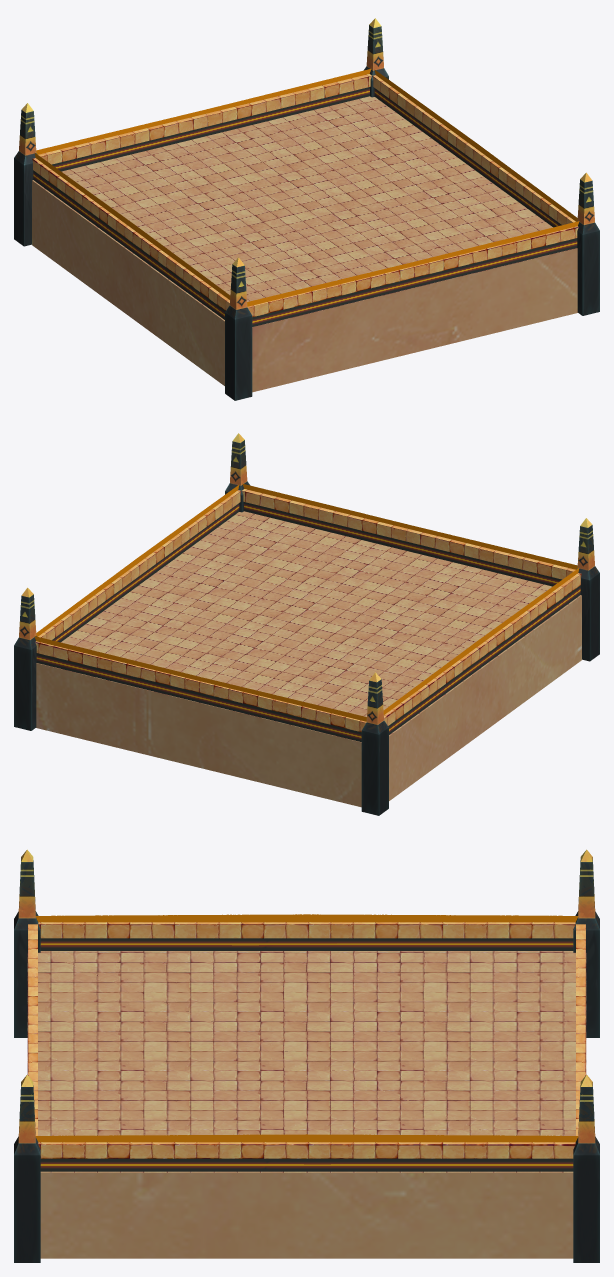
The model's file is Battle_Stage 12.fbx.
3 views of the same model, one above another, from view 1: azimuth 30°, elevation 25°; view 2: azimuth 150°, elevation 25°; view 3: azimuth 270°, elevation 25° (orthographic). The views are drawn at different scales.
Visible parts, largest first — view 1: CR_Platform_Cube.033, CR_Platform_Cube.035, Cube.105, Plane.168; view 2: CR_Platform_Cube.033, CR_Platform_Cube.035, Cube.105, Plane.168; view 3: CR_Platform_Cube.033, CR_Platform_Cube.035, Cube.105, Plane.168.
Boxes of the visible parts, <box> form: CR_Platform_Cube.033: <box>32,96,577,392</box>; CR_Platform_Cube.035: <box>32,74,578,326</box>; Cube.105: <box>14,18,599,400</box>; Plane.168: <box>34,69,579,306</box>; CR_Platform_Cube.033: <box>36,511,581,807</box>; CR_Platform_Cube.035: <box>35,489,581,741</box>; Cube.105: <box>14,433,599,815</box>; Plane.168: <box>34,484,579,721</box>; CR_Platform_Cube.033: <box>27,951,586,1258</box>; CR_Platform_Cube.035: <box>28,922,585,1171</box>; Cube.105: <box>14,849,599,1262</box>; Plane.168: <box>35,914,578,1142</box>.
Bounding box in the file's own units: 5891 × 2229 × 6176.
